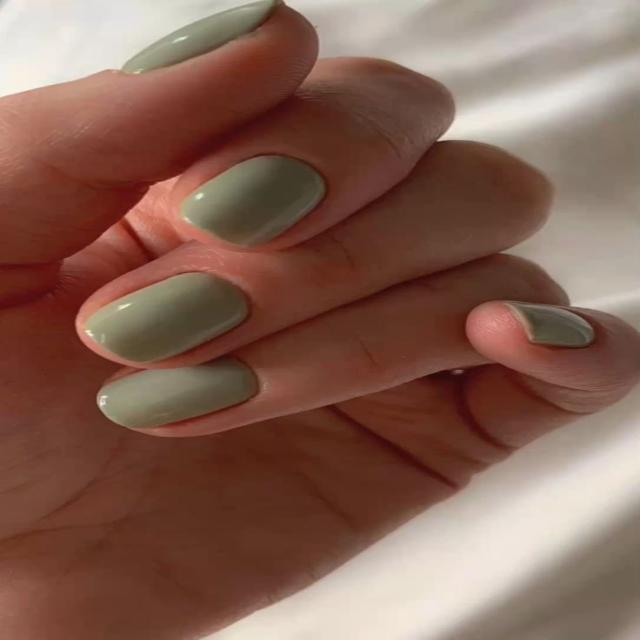Fingernail: (84, 272, 248, 362), (180, 156, 325, 246), (98, 358, 258, 428), (122, 0, 276, 72), (506, 303, 593, 347)
